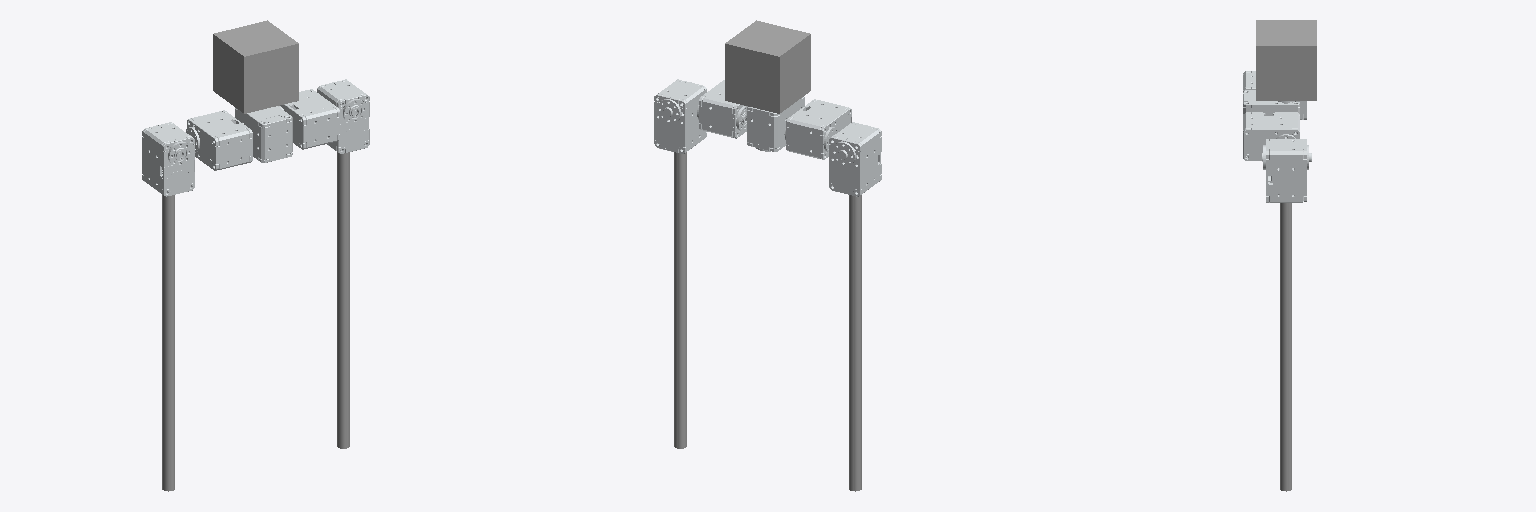
The robot description file, URDF, robot "chopstick_bot":
<?xml version='1.0' encoding='utf-8'?>
<robot name="chopstick_bot">
  <link name="world" />
  <joint name="world_to_base" type="fixed">
    <origin xyz="0.000000 0.000000 0.370000" rpy="0.000000 0.000000 0.000000" />
    <parent link="world" />
    <child link="base_motor_link" />
    </joint>
  <link name="base_motor_link">
    <visual>
      <origin xyz="0.000000 0.000000 0.000000" rpy="0.000000 0.000000 0.000000" />
      <geometry>
        <mesh filename="meshes/XL-430_new_coordinate_on_axis.STL" scale="0.001000 0.001000 0.001000" />
        </geometry>
      <material name="motor_mat">
        <color rgba="0.89804 0.91765 0.92941 1.0" />
        </material>
      </visual>
    <collision>
      <origin xyz="0.000000 -0.012000 0.000000" rpy="0.000000 0.000000 0.000000" />
      <geometry>
        <box size="0.028500 0.046500 0.034000" />
        </geometry>
      </collision>
    <inertial>
      <origin xyz="0.000000 -0.012000 0.000000" rpy="0.000000 0.000000 0.000000" />
      <mass value="0.065000" />
      <inertia ixx="0.000017973854" ixy="0" ixz="0" iyy="0.000010661354" iyz="0" izz="0.000016111875" />
      </inertial>
    </link>
  <link name="l_hip_pitch">
    <visual>
      <origin xyz="0.000000 0.000000 0.000000" rpy="0.000000 0.000000 0.000000" />
      <geometry>
        <mesh filename="meshes/XL-430_new_coordinate_on_axis.STL" scale="0.001000 0.001000 0.001000" />
        </geometry>
      <material name="motor_mat">
        <color rgba="0.89804 0.91765 0.92941 1.0" />
        </material>
      </visual>
    <collision>
      <origin xyz="0.000000 -0.012000 0.000000" rpy="0.000000 0.000000 0.000000" />
      <geometry>
        <box size="0.028500 0.046500 0.034000" />
        </geometry>
      </collision>
    <inertial>
      <origin xyz="0.000000 -0.012000 0.000000" rpy="0.000000 0.000000 0.000000" />
      <mass value="0.065000" />
      <inertia ixx="0.000017973854" ixy="0" ixz="0" iyy="0.000010661354" iyz="0" izz="0.000016111875" />
      </inertial>
    </link>
  <link name="l_hip_pitch_out">
    <inertial>
      <origin xyz="0.000000 0.000000 0.000000" rpy="0.000000 0.000000 0.000000" />
      <mass value="0.001000" />
      <inertia ixx="0.000000016667" ixy="0" ixz="0" iyy="0.000000016667" iyz="0" izz="0.000000016667" />
      </inertial>
    </link>
  <joint name="l_hip_pitch_mount_fixed" type="fixed">
    <origin xyz="-0.040000 0.000000 0.000000" rpy="0.000000 -1.570796 0.000000" />
    <parent link="base_motor_link" />
    <child link="l_hip_pitch" />
    </joint>
  <joint name="l_hip_pitch_joint" type="revolute">
    <origin xyz="0.000000 0.000000 0.000000" rpy="0.000000 0.000000 0.000000" />
    <parent link="l_hip_pitch" />
    <child link="l_hip_pitch_out" />
    <axis xyz="0.000000 0.000000 1.000000" />
    <limit lower="-3.14159" upper="3.14159" effort="5.0" velocity="8.0" />
    </joint>
  <link name="l_hip_roll">
    <visual>
      <origin xyz="0.000000 0.000000 0.000000" rpy="0.000000 0.000000 0.000000" />
      <geometry>
        <mesh filename="meshes/XL-430_new_coordinate_on_axis.STL" scale="0.001000 0.001000 0.001000" />
        </geometry>
      <material name="motor_mat">
        <color rgba="0.89804 0.91765 0.92941 1.0" />
        </material>
      </visual>
    <collision>
      <origin xyz="0.000000 -0.012000 0.000000" rpy="0.000000 0.000000 0.000000" />
      <geometry>
        <box size="0.028500 0.046500 0.034000" />
        </geometry>
      </collision>
    <inertial>
      <origin xyz="0.000000 -0.012000 0.000000" rpy="0.000000 0.000000 0.000000" />
      <mass value="0.065000" />
      <inertia ixx="0.000017973854" ixy="0" ixz="0" iyy="0.000010661354" iyz="0" izz="0.000016111875" />
      </inertial>
    </link>
  <link name="l_hip_roll_out">
    <inertial>
      <origin xyz="0.000000 0.000000 0.000000" rpy="0.000000 0.000000 0.000000" />
      <mass value="0.001000" />
      <inertia ixx="0.000000016667" ixy="0" ixz="0" iyy="0.000000016667" iyz="0" izz="0.000000016667" />
      </inertial>
    </link>
  <joint name="l_hip_roll_mount_fixed" type="fixed">
    <origin xyz="0.000000 0.000000 0.040000" rpy="0.000000 -1.570796 -1.570796" />
    <parent link="l_hip_pitch_out" />
    <child link="l_hip_roll" />
    </joint>
  <joint name="l_hip_roll_joint" type="revolute">
    <origin xyz="0.000000 0.000000 0.000000" rpy="0.000000 0.000000 0.000000" />
    <parent link="l_hip_roll" />
    <child link="l_hip_roll_out" />
    <axis xyz="0.000000 0.000000 1.000000" />
    <limit lower="-3.14159" upper="3.14159" effort="5.0" velocity="8.0" />
    </joint>
  <link name="l_end_effector">
    <visual>
      <origin xyz="0.000000 0.000000 0.000000" rpy="1.570796 0.000000 0.000000" />
      <geometry>
        <cylinder radius="0.005000" length="0.300000" />
        </geometry>
      <material name="cylinder_mat">
        <color rgba="0.7 0.7 0.7 1.0" />
        </material>
      </visual>
    <collision>
      <origin xyz="0.000000 -0.150000 0.000000" rpy="0.000000 0.000000 0.000000" />
      <geometry>
        <box size="0.020000 0.020000 0.020000" />
        </geometry>
      </collision>
    <inertial>
      <origin xyz="0.000000 0.000000 0.000000" rpy="0.000000 0.000000 0.000000" />
      <mass value="0.011781" />
      <inertia ixx="0.000088430924" ixy="0" ixz="0" iyy="0.000088430924" iyz="0" izz="0.000000147262" />
      </inertial>
    </link>
  <joint name="l_end_effector_fixed" type="fixed">
    <origin xyz="0.000000 -0.150000 0.000000" rpy="0.000000 0.000000 0.000000" />
    <parent link="l_hip_roll_out" />
    <child link="l_end_effector" />
    </joint>
  <link name="r_hip_pitch">
    <visual>
      <origin xyz="0.000000 0.000000 0.000000" rpy="0.000000 0.000000 0.000000" />
      <geometry>
        <mesh filename="meshes/XL-430_new_coordinate_on_axis.STL" scale="0.001000 0.001000 0.001000" />
        </geometry>
      <material name="motor_mat">
        <color rgba="0.89804 0.91765 0.92941 1.0" />
        </material>
      </visual>
    <collision>
      <origin xyz="0.000000 -0.012000 0.000000" rpy="0.000000 0.000000 0.000000" />
      <geometry>
        <box size="0.028500 0.046500 0.034000" />
        </geometry>
      </collision>
    <inertial>
      <origin xyz="0.000000 -0.012000 0.000000" rpy="0.000000 0.000000 0.000000" />
      <mass value="0.065000" />
      <inertia ixx="0.000017973854" ixy="0" ixz="0" iyy="0.000010661354" iyz="0" izz="0.000016111875" />
      </inertial>
    </link>
  <link name="r_hip_pitch_out">
    <inertial>
      <origin xyz="0.000000 0.000000 0.000000" rpy="0.000000 0.000000 0.000000" />
      <mass value="0.001000" />
      <inertia ixx="0.000000016667" ixy="0" ixz="0" iyy="0.000000016667" iyz="0" izz="0.000000016667" />
      </inertial>
    </link>
  <joint name="r_hip_pitch_mount_fixed" type="fixed">
    <origin xyz="0.040000 0.000000 0.000000" rpy="0.000000 1.570796 -0.000000" />
    <parent link="base_motor_link" />
    <child link="r_hip_pitch" />
    </joint>
  <joint name="r_hip_pitch_joint" type="revolute">
    <origin xyz="0.000000 0.000000 0.000000" rpy="0.000000 0.000000 0.000000" />
    <parent link="r_hip_pitch" />
    <child link="r_hip_pitch_out" />
    <axis xyz="0.000000 0.000000 1.000000" />
    <limit lower="-3.14159" upper="3.14159" effort="5.0" velocity="8.0" />
    </joint>
  <link name="r_hip_roll">
    <visual>
      <origin xyz="0.000000 0.000000 0.000000" rpy="0.000000 0.000000 0.000000" />
      <geometry>
        <mesh filename="meshes/XL-430_new_coordinate_on_axis.STL" scale="0.001000 0.001000 0.001000" />
        </geometry>
      <material name="motor_mat">
        <color rgba="0.89804 0.91765 0.92941 1.0" />
        </material>
      </visual>
    <collision>
      <origin xyz="0.000000 -0.012000 0.000000" rpy="0.000000 0.000000 0.000000" />
      <geometry>
        <box size="0.028500 0.046500 0.034000" />
        </geometry>
      </collision>
    <inertial>
      <origin xyz="0.000000 -0.012000 0.000000" rpy="0.000000 0.000000 0.000000" />
      <mass value="0.065000" />
      <inertia ixx="0.000017973854" ixy="0" ixz="0" iyy="0.000010661354" iyz="0" izz="0.000016111875" />
      </inertial>
    </link>
  <link name="r_hip_roll_out">
    <inertial>
      <origin xyz="0.000000 0.000000 0.000000" rpy="0.000000 0.000000 0.000000" />
      <mass value="0.001000" />
      <inertia ixx="0.000000016667" ixy="0" ixz="0" iyy="0.000000016667" iyz="0" izz="0.000000016667" />
      </inertial>
    </link>
  <joint name="r_hip_roll_mount_fixed" type="fixed">
    <origin xyz="-0.000000 0.000000 0.040000" rpy="0.000000 1.570796 1.570796" />
    <parent link="r_hip_pitch_out" />
    <child link="r_hip_roll" />
    </joint>
  <joint name="r_hip_roll_joint" type="revolute">
    <origin xyz="0.000000 0.000000 0.000000" rpy="0.000000 0.000000 0.000000" />
    <parent link="r_hip_roll" />
    <child link="r_hip_roll_out" />
    <axis xyz="0.000000 0.000000 1.000000" />
    <limit lower="-3.14159" upper="3.14159" effort="5.0" velocity="8.0" />
    </joint>
  <link name="r_end_effector">
    <visual>
      <origin xyz="0.000000 0.000000 0.000000" rpy="1.570796 0.000000 0.000000" />
      <geometry>
        <cylinder radius="0.005000" length="0.300000" />
        </geometry>
      <material name="cylinder_mat">
        <color rgba="0.7 0.7 0.7 1.0" />
        </material>
      </visual>
    <collision>
      <origin xyz="0.000000 -0.150000 0.000000" rpy="0.000000 0.000000 0.000000" />
      <geometry>
        <box size="0.020000 0.020000 0.020000" />
        </geometry>
      </collision>
    <inertial>
      <origin xyz="0.000000 0.000000 0.000000" rpy="0.000000 0.000000 0.000000" />
      <mass value="0.011781" />
      <inertia ixx="0.000088430924" ixy="0" ixz="0" iyy="0.000088430924" iyz="0" izz="0.000000147262" />
      </inertial>
    </link>
  <joint name="r_end_effector_fixed" type="fixed">
    <origin xyz="-0.000000 -0.150000 0.000000" rpy="0.000000 -0.000000 0.000000" />
    <parent link="r_hip_roll_out" />
    <child link="r_end_effector" />
    </joint>
  <link name="trunk_link">
    <visual>
      <origin xyz="0.000000 0.000000 0.000000" rpy="0.000000 0.000000 0.000000" />
      <geometry>
        <box size="0.050000 0.050000 0.050000" />
        </geometry>
      <material name="box_mat">
        <color rgba="0.7 0.7 0.7 1.0" />
        </material>
      </visual>
    <collision>
      <origin xyz="0.000000 0.000000 0.000000" rpy="0.000000 0.000000 0.000000" />
      <geometry>
        <box size="0.050000 0.050000 0.050000" />
        </geometry>
      </collision>
    <inertial>
      <origin xyz="0.000000 0.000000 0.000000" rpy="0.000000 0.000000 0.000000" />
      <mass value="0.200000" />
      <inertia ixx="0.000083333333" ixy="0" ixz="0" iyy="0.000083333333" iyz="0" izz="0.000083333333" />
      </inertial>
    </link>
  <joint name="base_to_trunk" type="revolute">
    <origin xyz="0.000000 0.000000 0.050000" rpy="0.000000 0.000000 0.000000" />
    <parent link="base_motor_link" />
    <child link="trunk_link" />
    <axis xyz="0.000000 0.000000 1.000000" />
    <limit lower="-3.14159" upper="3.14159" effort="5.0" velocity="8.0" />
    </joint>
  </robot>

--- Facts derived from the render (not from the file) ---
The picture shows the robot from 3 angles, left to right: view 1: azimuth 30°, elevation 25°; view 2: azimuth 150°, elevation 25°; view 3: azimuth 270°, elevation 25°; orthographic projection.
Robot: chopstick_bot — 13 links, 12 joints (5 revolute, 7 fixed); root link world; default pose: every joint at zero.
Links seen in each view (by area): view 1: trunk_link, r_end_effector, l_end_effector, l_hip_roll, l_hip_pitch, r_hip_roll, r_hip_pitch, base_motor_link; view 2: trunk_link, r_end_effector, l_end_effector, l_hip_roll, r_hip_roll, l_hip_pitch, r_hip_pitch, base_motor_link; view 3: trunk_link, r_end_effector, r_hip_roll, r_hip_pitch, base_motor_link.
Boxes of the visible links, bbox=[...] form: trunk_link: bbox=[213, 20, 298, 113]; r_end_effector: bbox=[337, 152, 349, 448]; l_end_effector: bbox=[162, 195, 174, 491]; l_hip_roll: bbox=[142, 122, 194, 196]; l_hip_pitch: bbox=[186, 110, 252, 170]; r_hip_roll: bbox=[317, 79, 369, 153]; r_hip_pitch: bbox=[278, 89, 339, 149]; base_motor_link: bbox=[235, 106, 292, 162]; trunk_link: bbox=[725, 20, 810, 113]; r_end_effector: bbox=[674, 152, 686, 448]; l_end_effector: bbox=[849, 195, 861, 491]; l_hip_roll: bbox=[829, 122, 881, 196]; r_hip_roll: bbox=[654, 79, 706, 153]; l_hip_pitch: bbox=[784, 99, 851, 159]; r_hip_pitch: bbox=[697, 80, 746, 138]; base_motor_link: bbox=[747, 97, 804, 151]; trunk_link: bbox=[1256, 20, 1316, 100]; r_end_effector: bbox=[1280, 203, 1291, 491]; r_hip_roll: bbox=[1262, 139, 1311, 202]; r_hip_pitch: bbox=[1243, 112, 1299, 160]; base_motor_link: bbox=[1243, 90, 1299, 113].
Bounding box of the posed robot: 0.1885 × 0.0602 × 0.375 m (x, y, z).
Meshes: 1 distinct files referenced, 5 mesh visuals loaded (1 binary STL).
